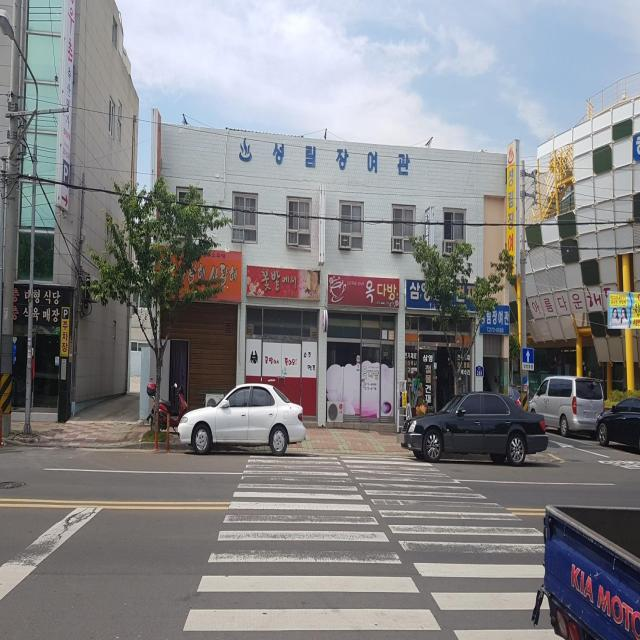횡단보도: (181, 450, 570, 639)
